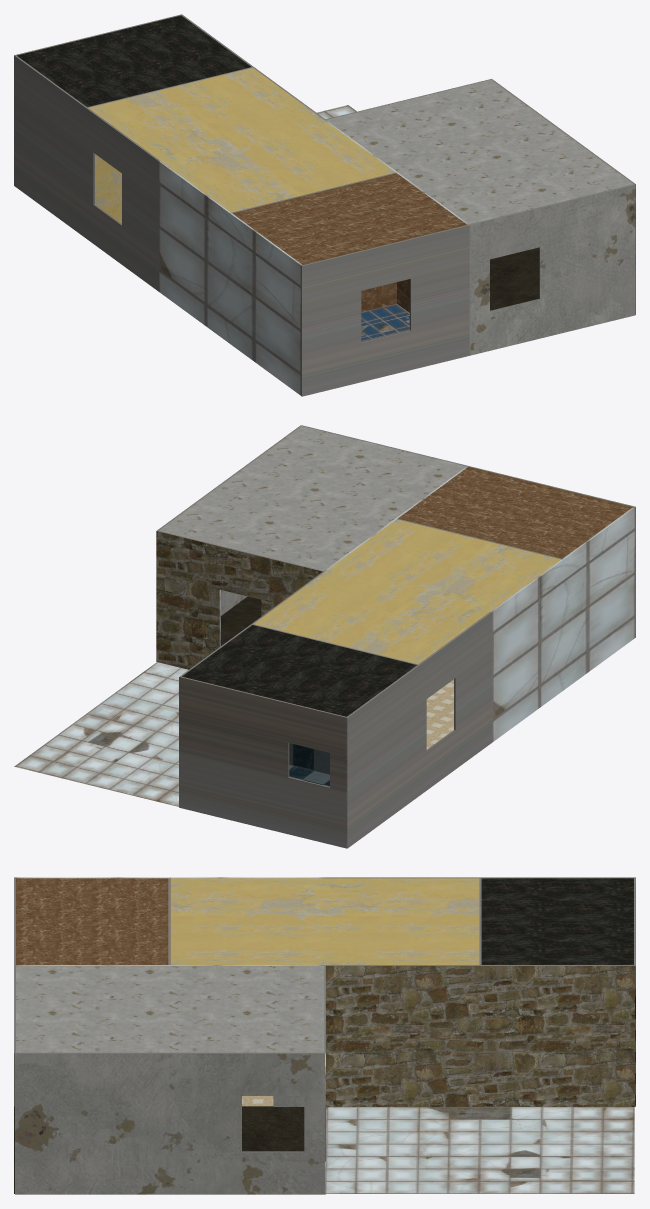
Rendered from house.glb.
3 views of the same model, one above another, from view 1: azimuth 30°, elevation 25°; view 2: azimuth 150°, elevation 25°; view 3: azimuth 270°, elevation 25° (orthographic). The views are drawn at different scales.
Parts seen in each view (by area): view 1: Plane.005; view 2: Plane.005; view 3: Plane.005.
Boxes of the visible parts, x1,y1,x2,y2 form: Plane.005: [14, 14, 635, 396]; Plane.005: [14, 425, 635, 848]; Plane.005: [14, 877, 635, 1194].
Size of the model in its own units: 8.04 by 3 by 12.
Materials: 10 (10 with a texture image).
